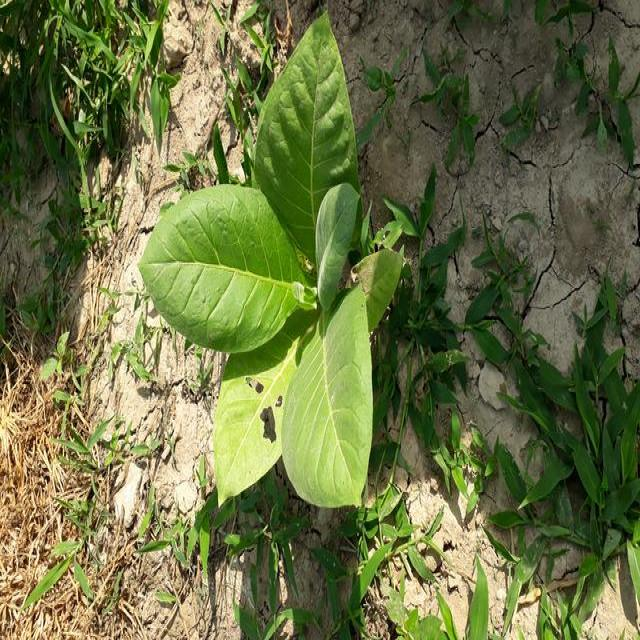crop: (140, 1, 412, 532)
